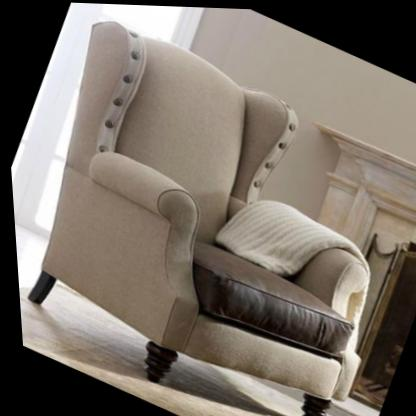Sofa: (0, 2, 416, 416)
